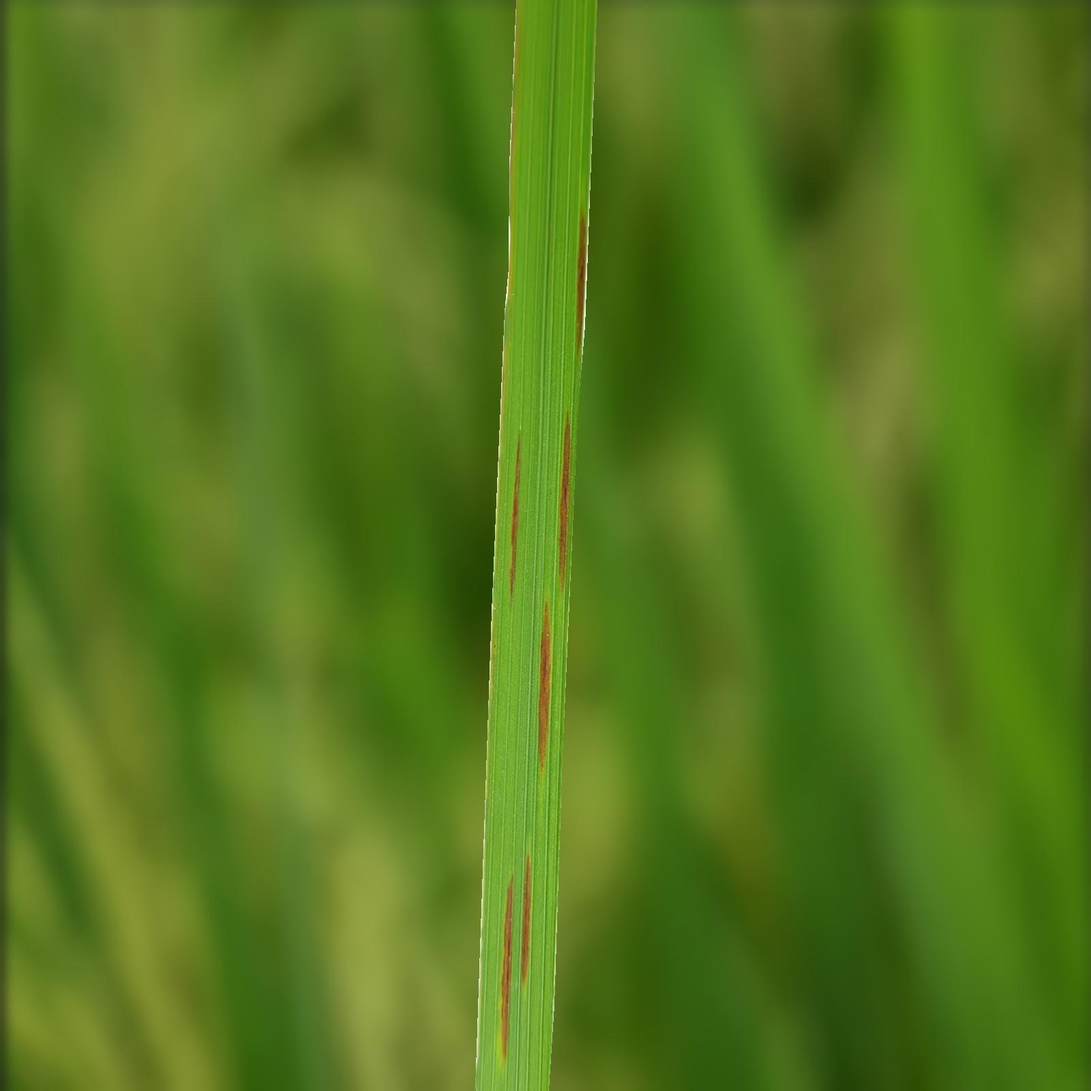LEAF: (475, 0, 597, 1090)
NBS: (500, 878, 513, 1059), (539, 603, 551, 768), (509, 434, 520, 593), (559, 419, 569, 584), (577, 213, 586, 348), (521, 854, 530, 985)
